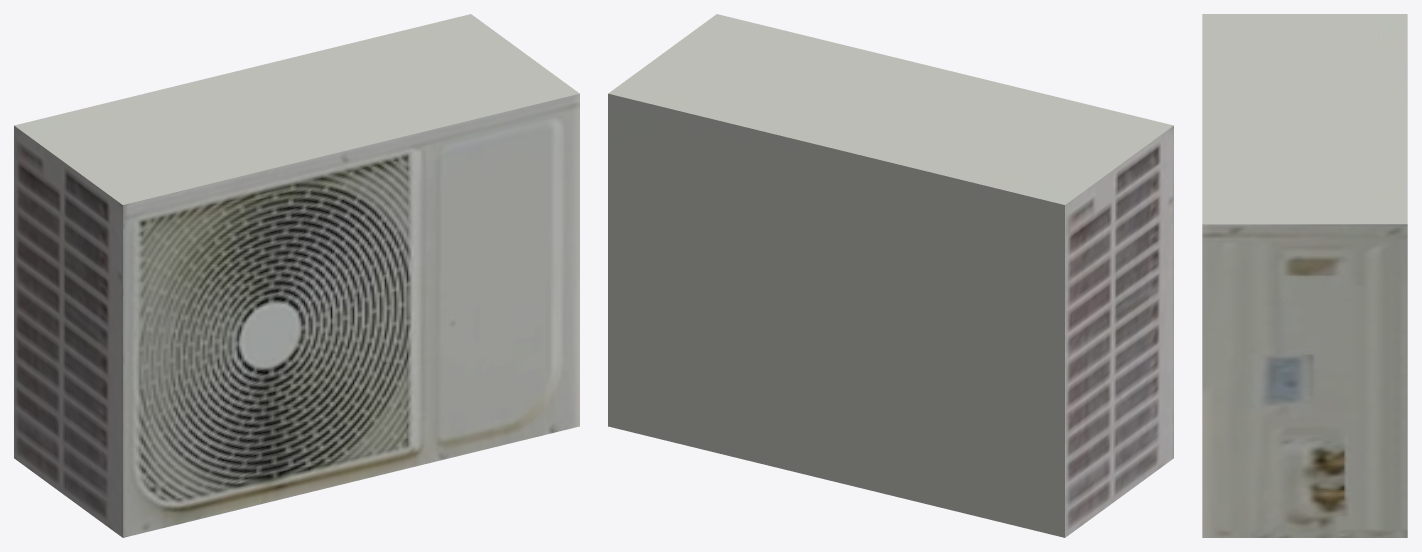
3 views of the same model, side by side, from view 1: azimuth 30°, elevation 25°; view 2: azimuth 150°, elevation 25°; view 3: azimuth 270°, elevation 25° (orthographic). The views are drawn at different scales.
Visible parts, largest first — view 1: LO-kongtiaowai_01; view 2: LO-kongtiaowai_01; view 3: LO-kongtiaowai_01.
Part boxes in pixels (box(x1,y1,x2,y2)): LO-kongtiaowai_01: box(14, 14, 579, 537); LO-kongtiaowai_01: box(608, 14, 1173, 537); LO-kongtiaowai_01: box(1202, 14, 1407, 537).
Bounding box in the file's own units: 0.776 × 0.54 × 0.32.
1 material, 1 textured.
